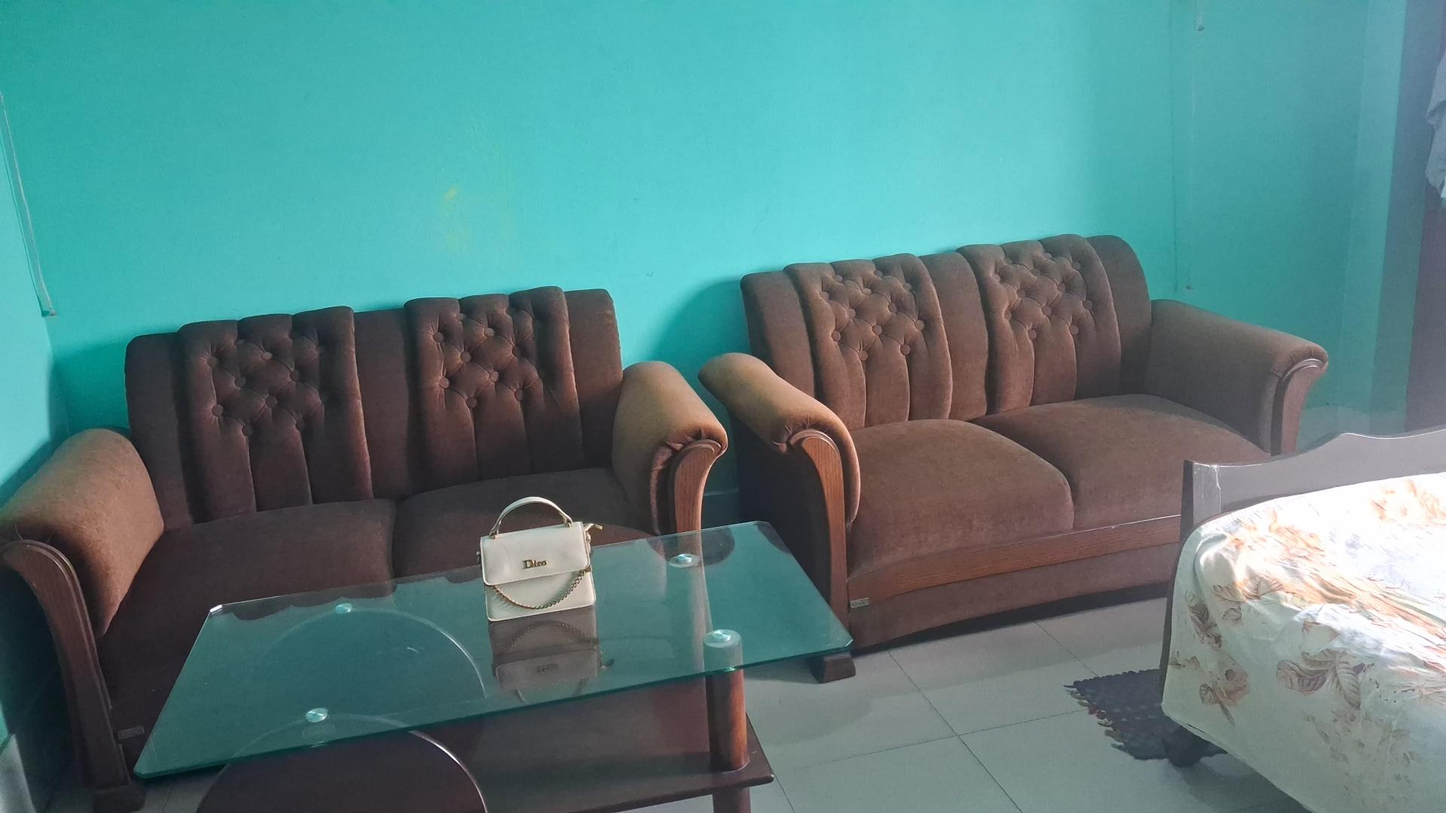Bag: (475, 492, 605, 629)
Table: (128, 514, 850, 811)
